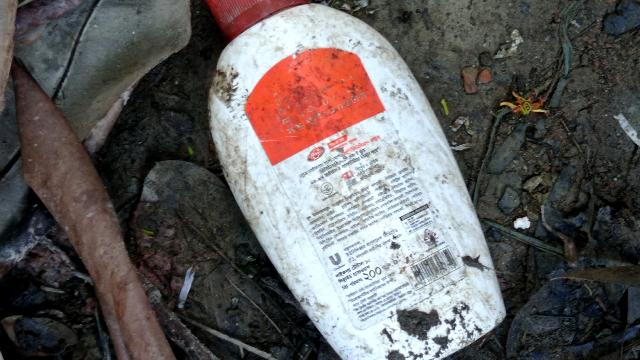bottle: (183, 0, 515, 360)
